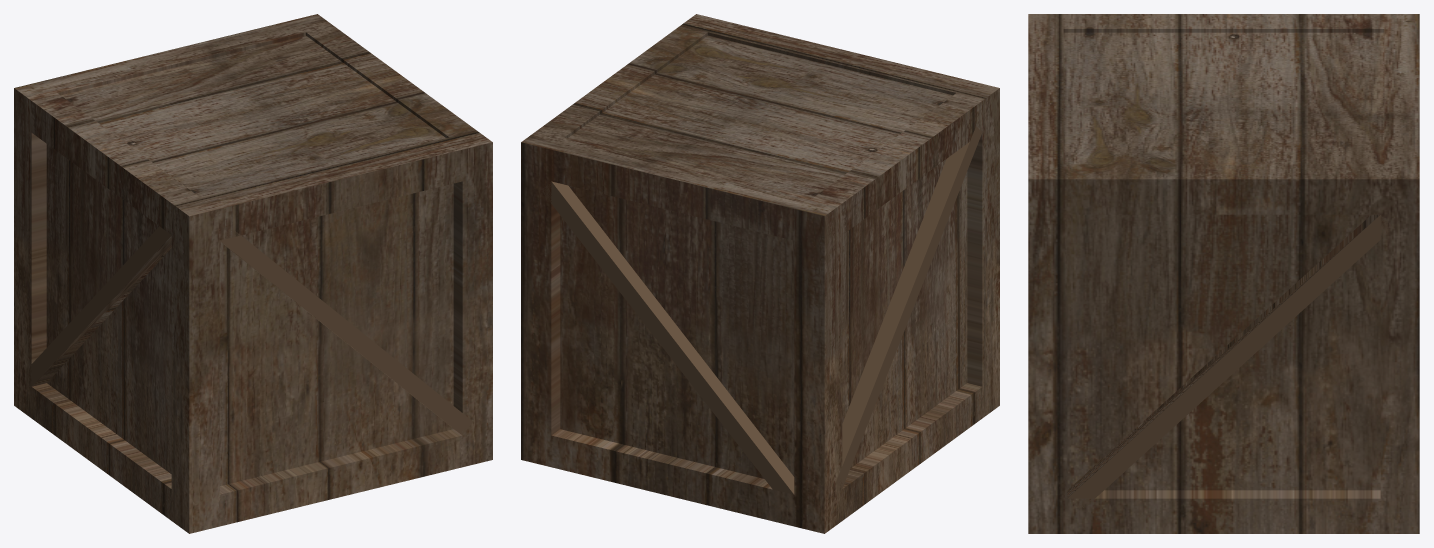
File: Crate.gltf
3 views of the same model, side by side, from view 1: azimuth 30°, elevation 25°; view 2: azimuth 150°, elevation 25°; view 3: azimuth 270°, elevation 25° (orthographic). The views are drawn at different scales.
Visible parts, largest first — view 1: Cube; view 2: Cube; view 3: Cube.
Part boxes in pixels (left/top/right/bottom): Cube: left=14, top=14, right=492, bottom=533; Cube: left=521, top=14, right=999, bottom=533; Cube: left=1028, top=14, right=1419, bottom=533.
Size of the model in its own units: 2 by 2 by 2.
1 material, 1 textured.
